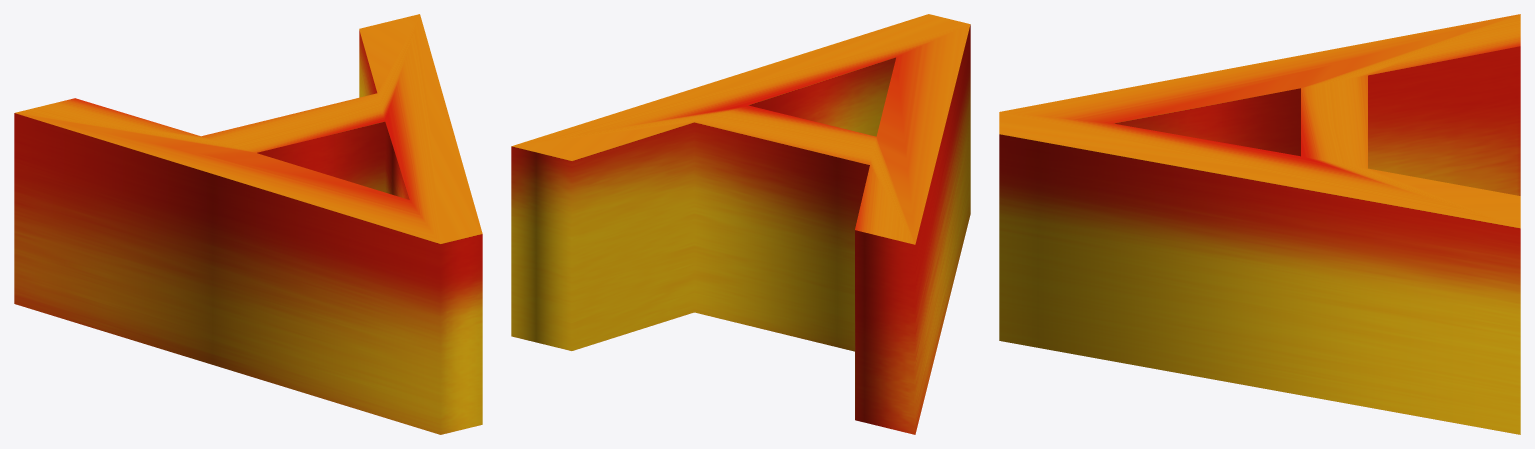
The picture shows the model from 3 angles, left to right: view 1: azimuth 30°, elevation 25°; view 2: azimuth 150°, elevation 25°; view 3: azimuth 270°, elevation 25°; orthographic projection. The views are drawn at different scales.
Parts seen in each view (by area): view 1: テキスト; view 2: テキスト; view 3: テキスト.
Boxes of the visible parts, bbox=[...] form: テキスト: bbox=[14, 14, 482, 434]; テキスト: bbox=[511, 14, 970, 434]; テキスト: bbox=[999, 14, 1520, 434].
Size of the model in its own units: 0.667 by 0.3 by 0.686.
Materials: 1 (1 with a texture image).
